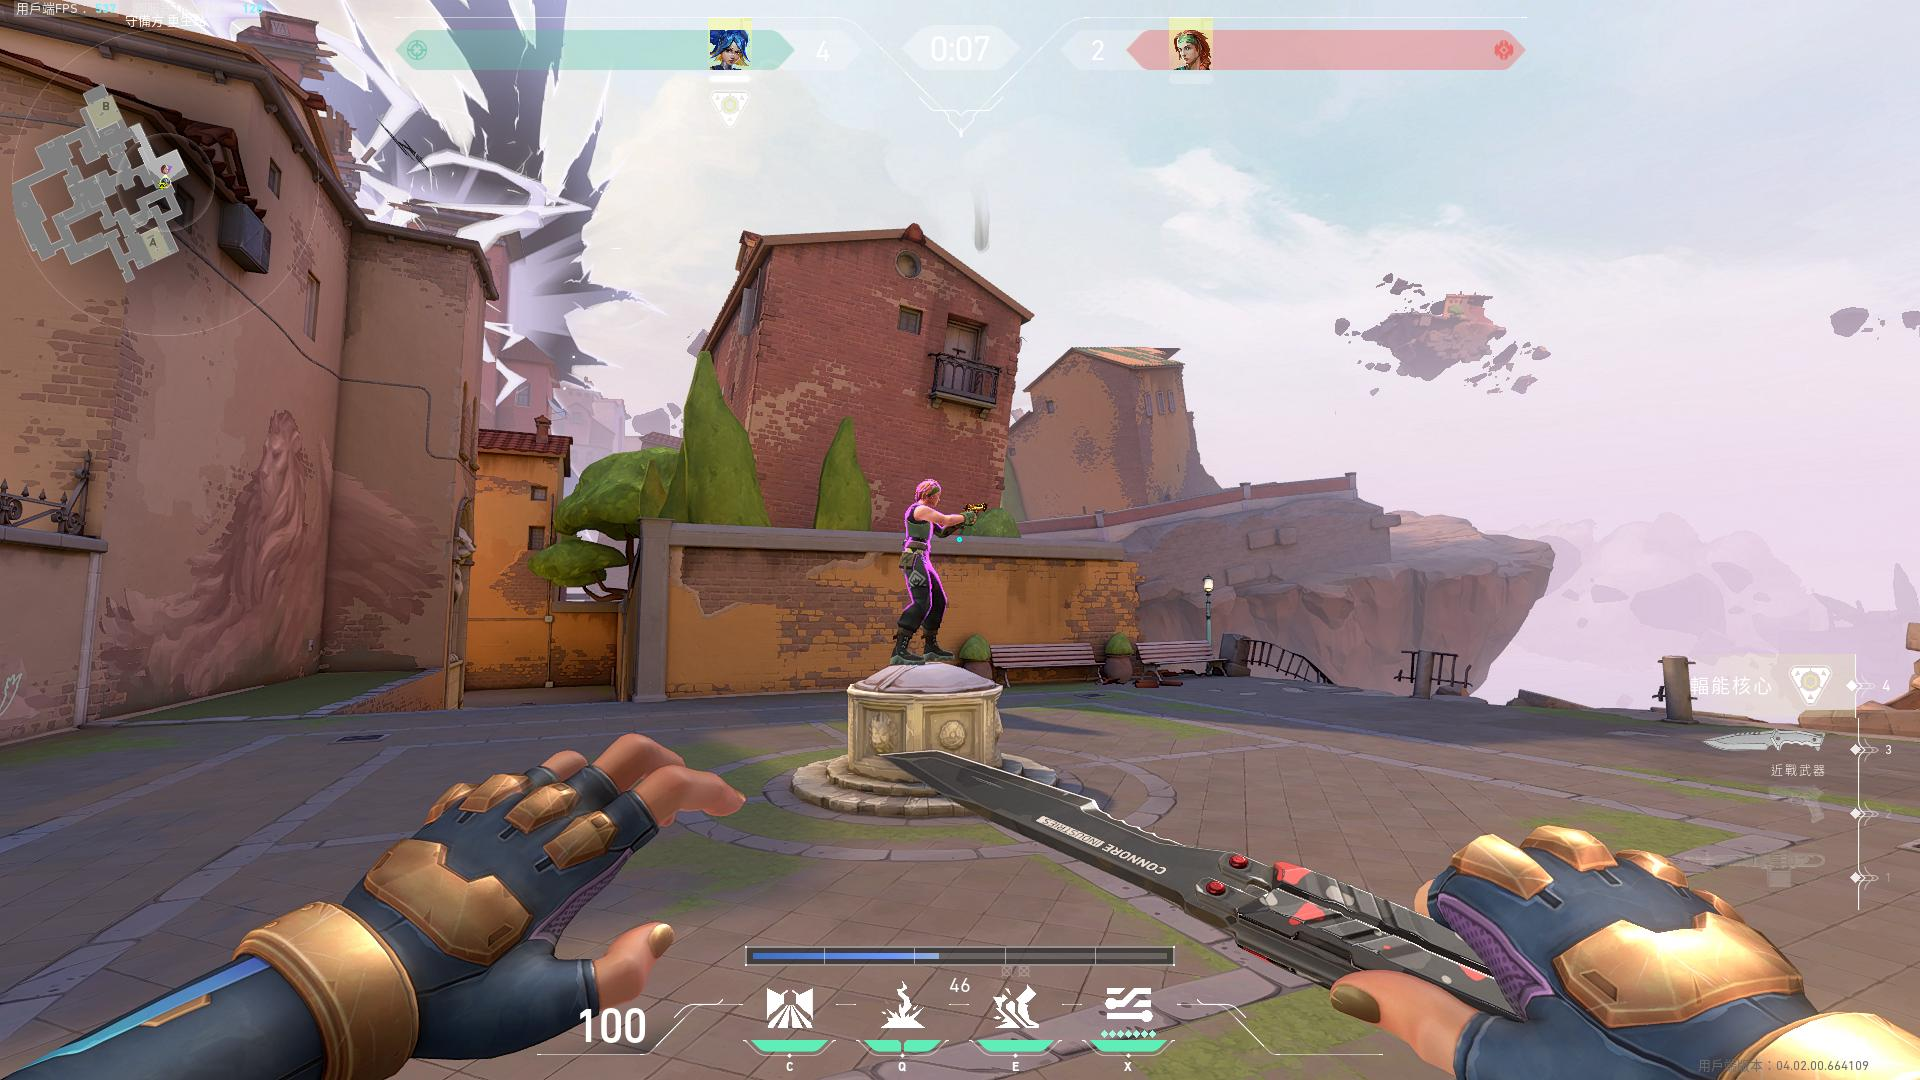enemyBody: (913, 512, 928, 553)
enemyHead: (923, 484, 936, 502)
